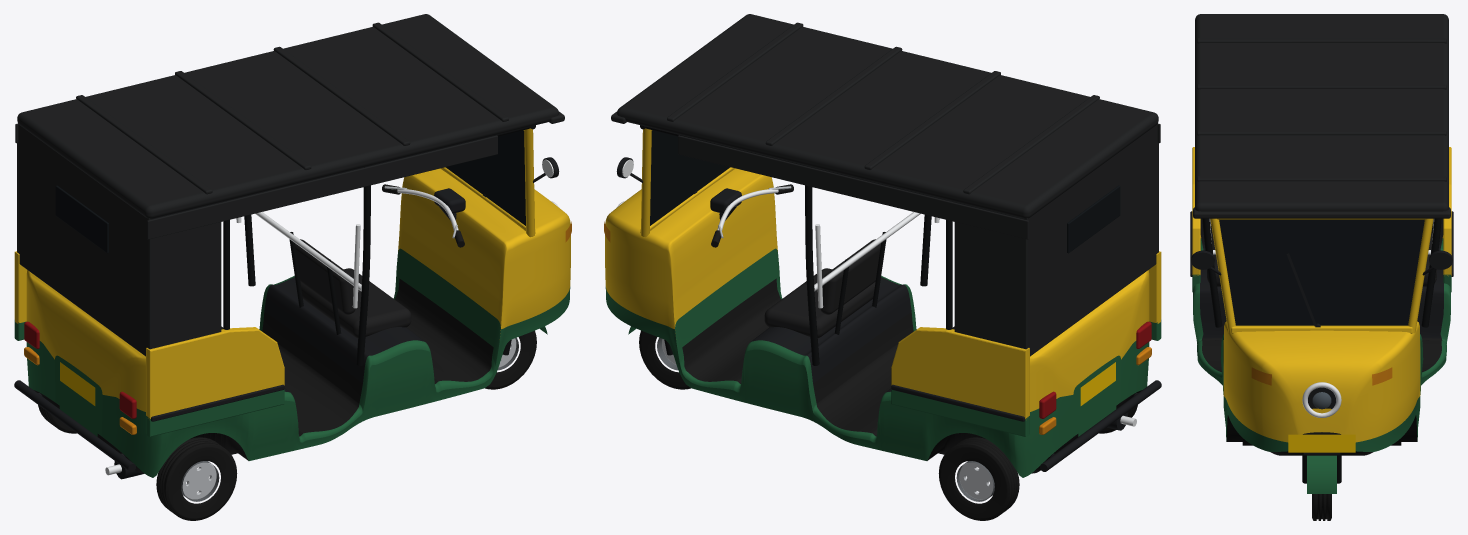
Rendered from auto-rickshaw.glb.
3 renders of one model, left to right at view 1: azimuth 30°, elevation 25°; view 2: azimuth 150°, elevation 25°; view 3: azimuth 270°, elevation 25°, orthographic. The views are drawn at different scales.
Visible parts, largest first — view 1: canvas, paint_secondary, paint, rubber, trim, glass, seat, trim_gloss, wheel_rr_tyre, chrome, wheel_front_tyre, wheel_rr_rim (+3 smaller); view 2: canvas, paint_secondary, paint, rubber, trim, glass, seat, trim_gloss, wheel_rl_tyre, chrome, wheel_front_tyre, wheel_rl_rim (+3 smaller); view 3: canvas, paint_secondary, glass, paint, trim, trim_gloss, plate_front, rubber, under, chrome, wheel_front_tyre, indicator (+1 smaller).
Part boxes in pixels (bbox=[...]): canvas: bbox=[15, 14, 564, 356]; paint_secondary: bbox=[14, 128, 570, 419]; paint: bbox=[14, 248, 570, 477]; rubber: bbox=[262, 184, 493, 436]; trim: bbox=[14, 157, 559, 479]; glass: bbox=[55, 130, 525, 253]; seat: bbox=[221, 239, 411, 338]; trim_gloss: bbox=[152, 125, 535, 365]; wheel_rr_tyre: bbox=[156, 437, 237, 520]; chrome: bbox=[105, 159, 558, 475]; wheel_front_tyre: bbox=[485, 330, 536, 389]; wheel_rr_rim: bbox=[182, 462, 216, 499]; canvas: bbox=[611, 14, 1160, 356]; paint_secondary: bbox=[605, 128, 1161, 418]; paint: bbox=[605, 248, 1161, 477]; rubber: bbox=[682, 184, 913, 436]; trim: bbox=[616, 157, 1161, 471]; glass: bbox=[650, 130, 1120, 253]; seat: bbox=[764, 239, 954, 338]; trim_gloss: bbox=[640, 125, 1023, 365]; wheel_rl_tyre: bbox=[938, 437, 1019, 520]; chrome: bbox=[617, 159, 1136, 426]; wheel_front_tyre: bbox=[639, 330, 690, 389]; wheel_rl_rim: bbox=[959, 462, 993, 499]; canvas: bbox=[1193, 14, 1450, 218]; paint_secondary: bbox=[1192, 147, 1451, 442]; glass: bbox=[1219, 219, 1424, 325]; paint: bbox=[1192, 238, 1451, 493]; trim: bbox=[1190, 211, 1453, 454]; trim_gloss: bbox=[1202, 218, 1441, 483]; plate_front: bbox=[1288, 434, 1355, 452]; rubber: bbox=[1201, 338, 1442, 372]; under: bbox=[1226, 415, 1417, 455]; chrome: bbox=[1209, 219, 1434, 417]; wheel_front_tyre: bbox=[1312, 494, 1331, 520]; indicator: bbox=[1251, 367, 1392, 385].
Size of the model in its own units: 2.7 by 1.75 by 1.33.
